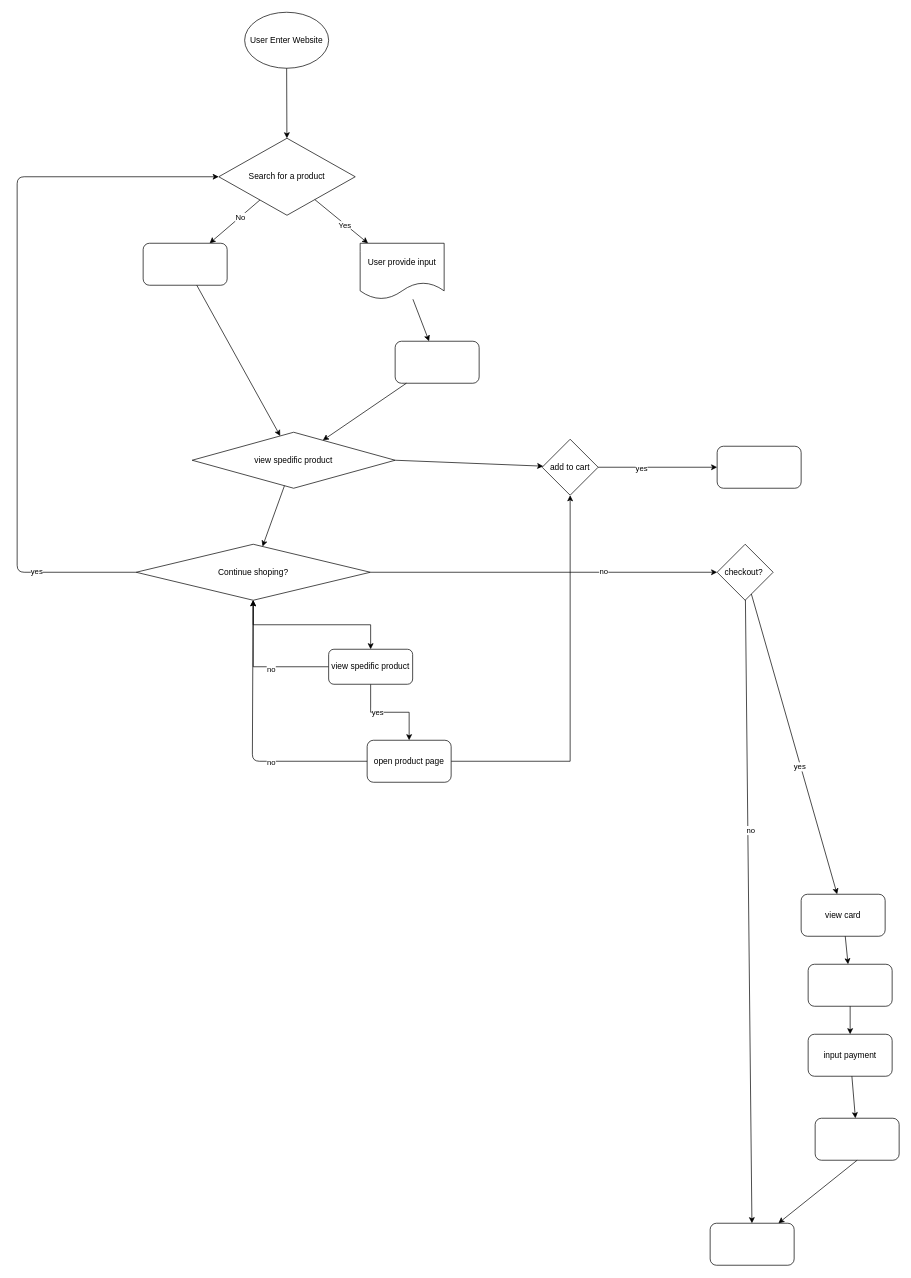
Some shapes in this 911 by 1278 pixel diagram are drawn without their labels. The shapes that lost their labels are listed below. From the top down, each one's centre as x and y in pixels, then its label:
pixel 184 264: Displaying products
pixel 436 362: Display searched product
pixel 758 467: receive add to cart comfirmation
pixel 849 985: view payment
pixel 856 1139: confirmation screen receive email
pixel 751 1244: leave webiste
